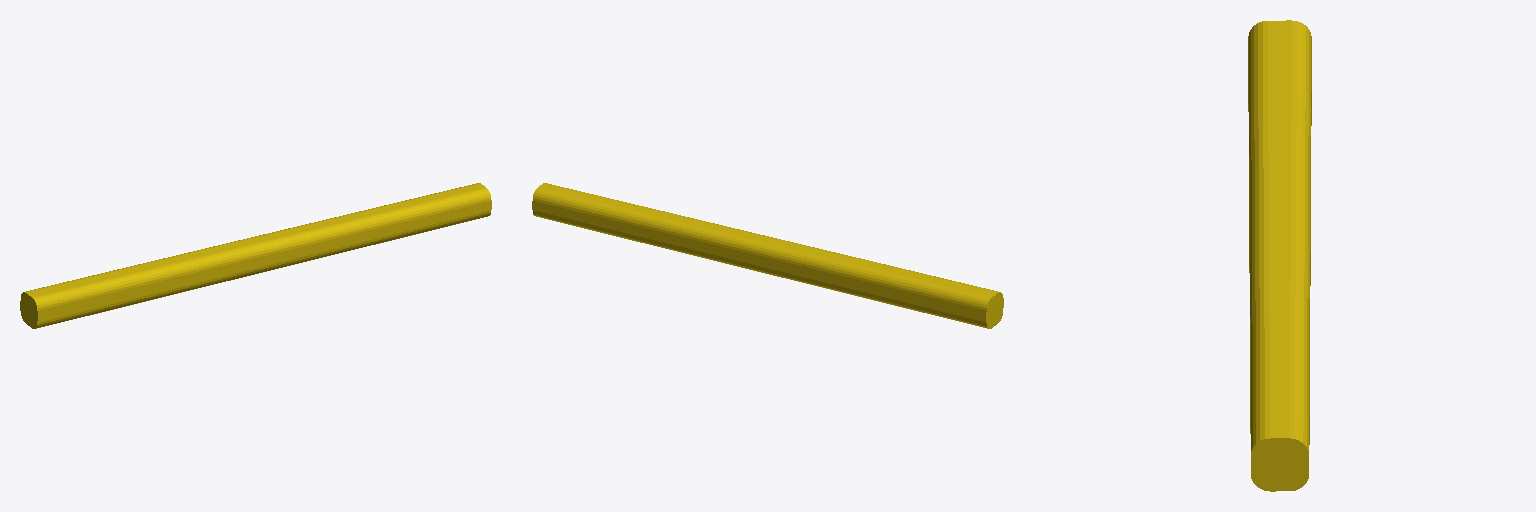
robot.urdf — cb_chopstick_t45d100:
<?xml version="1.0"?>
<!-- ContactBench chopstick. Generated by FoundationTouch tools/contactbench/make_contactbench_assets.py -->
<robot name="cb_chopstick_t45d100">
  <material name="c"><color rgba="0.85 0.75 0.10 1.0"/></material>
  <link name="object">
    <visual><origin xyz="0 0 0" rpy="0 0 0"/><geometry><mesh filename="chopstick.obj" scale="1 1 1"/></geometry><material name="c"/></visual>
    <collision><origin xyz="0 0 0" rpy="0 0 0"/><geometry><mesh filename="coll_00.obj" scale="1 1 1"/></geometry></collision>
    <inertial><mass value="9.350486e-04"/><origin xyz="0 0 0" rpy="0 0 0"/><inertia ixx="2.593743e-09" ixy="2.692718e-16" ixz="-8.826431e-17" iyy="3.822086e-07" iyz="6.517383e-16" izz="3.822086e-07"/></inertial>
  </link>
</robot>

--- Render facts (derived) ---
Views: 3 orthographic renders of the robot side by side, from view 1: azimuth 30°, elevation 25°; view 2: azimuth 150°, elevation 25°; view 3: azimuth 270°, elevation 25°.
Robot: cb_chopstick_t45d100 — 1 links, 0 joints (none); root link object; default pose: every joint at zero.
Links seen in each view (by area): view 1: object; view 2: object; view 3: object.
Boxes of the visible links, <box> form: object: <box>20,183,491,328</box>; object: <box>532,183,1003,328</box>; object: <box>1248,20,1311,491</box>.
Bounding box of the posed robot: 0.07 × 0.0045 × 0.0045 m (x, y, z).
Meshes: 1 distinct files referenced, 1 mesh visuals loaded (1 OBJ).
